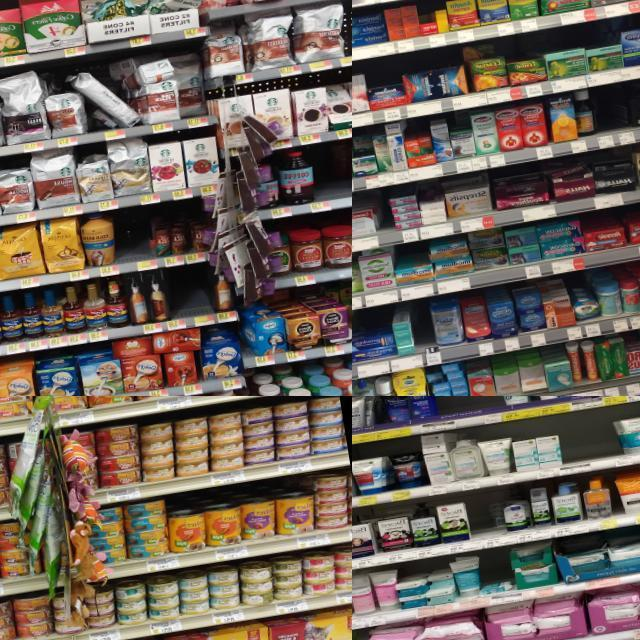Imprecise: (71, 54, 145, 127), (174, 42, 214, 121), (477, 572, 516, 599)
